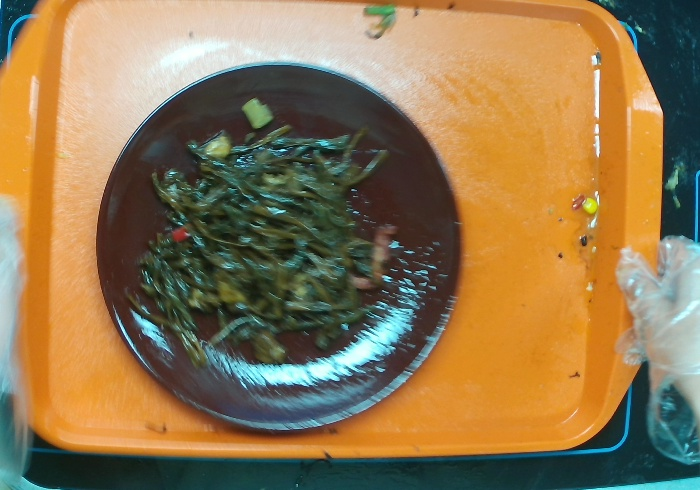HZYJPL-Ka_Fei_Yuan_Pan: (91, 62, 458, 429)
